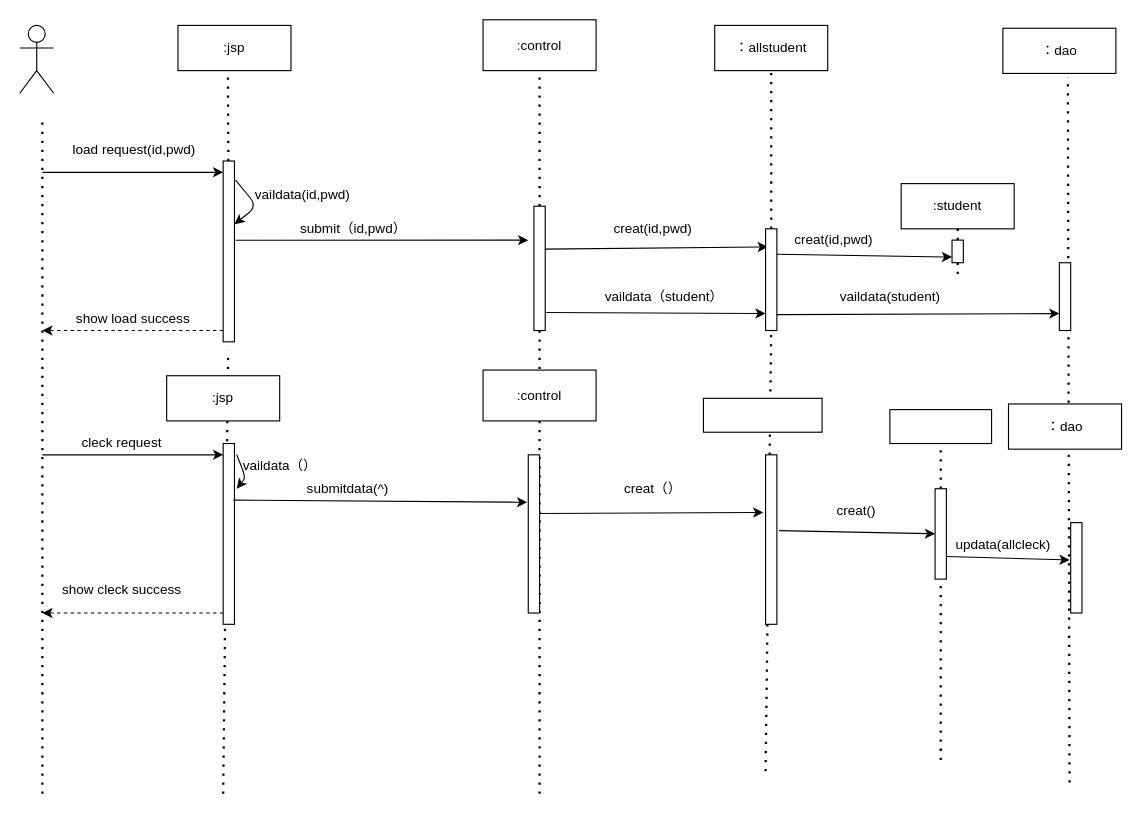
Image size: 1141x816. Some labels were removed from this diagram. Each missing label, with the box of its shape:
:allcleck: (702, 397, 822, 432)
:cleck: (889, 408, 992, 444)
Actor: (19, 24, 54, 93)
